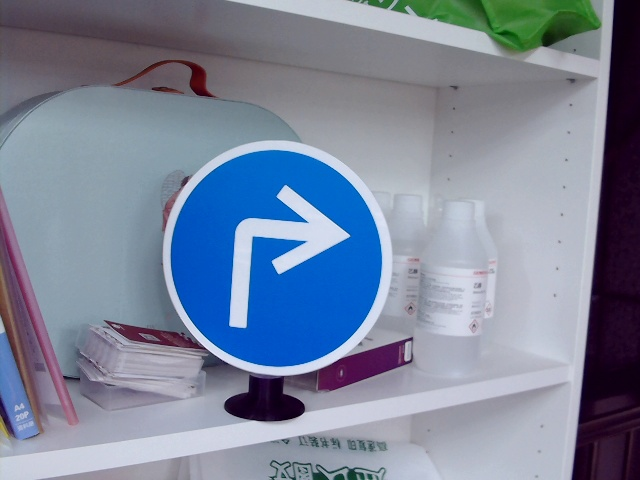turn_right: (220, 182, 352, 329)
